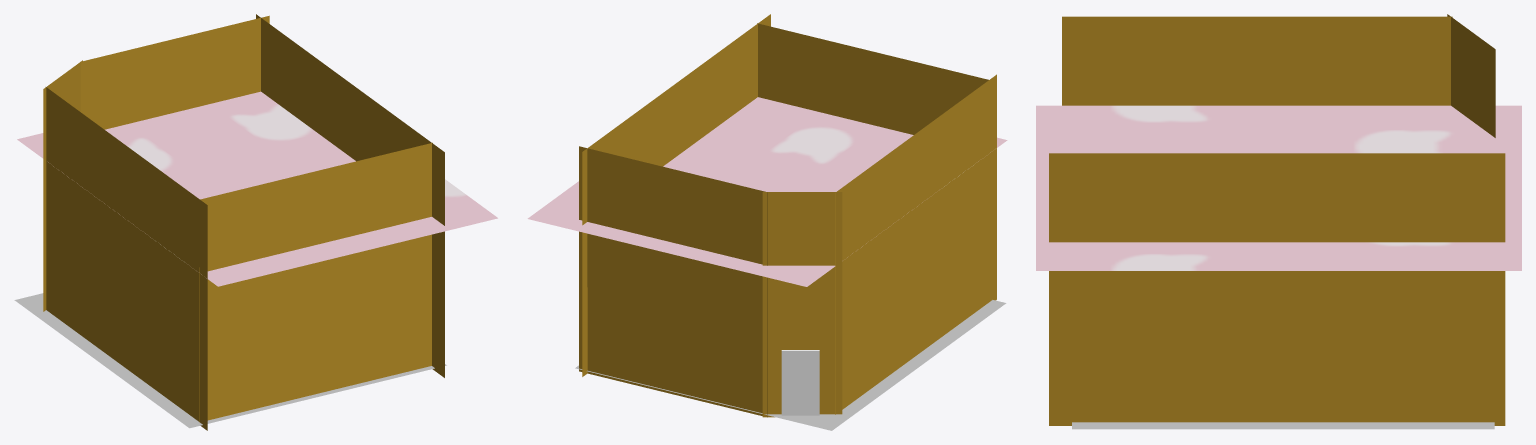
Rendered from Interior_Cafe.fbx.
3 views of the same model, side by side, from view 1: azimuth 30°, elevation 25°; view 2: azimuth 150°, elevation 25°; view 3: azimuth 270°, elevation 25° (orthographic). The views are drawn at different scales.
Parts seen in each view (by area): view 1: Wall_3, Wall_1, Ceiling, Wall_2, Wall, Floor, Wall__1_; view 2: Wall_2, Wall_1, Ceiling, Wall__1_, Wall_3, Wall, Floor, Door; view 3: Wall, Ceiling, Wall_1, Wall__1_, Floor.
Part boxes in pixels (x1=…): Wall_3: x1=199, y1=142, x2=432, y2=422; Wall_1: x1=46, y1=87, x2=207, y2=430; Ceiling: x1=17, y1=91, x2=497, y2=286; Wall_2: x1=80, y1=15, x2=269, y2=129; Wall: x1=256, y1=14, x2=444, y2=377; Floor: x1=14, y1=293, x2=446, y2=428; Wall__1_: x1=43, y1=60, x2=82, y2=311; Wall_2: x1=579, y1=146, x2=767, y2=417; Wall_1: x1=835, y1=74, x2=996, y2=414; Ceiling: x1=527, y1=97, x2=1007, y2=286; Wall__1_: x1=762, y1=192, x2=842, y2=417; Wall_3: x1=757, y1=23, x2=988, y2=134; Wall: x1=582, y1=14, x2=770, y2=376; Floor: x1=575, y1=300, x2=1006, y2=430; Door: x1=781, y1=350, x2=819, y2=415; Wall: x1=1049, y1=153, x2=1505, y2=425; Ceiling: x1=1036, y1=105, x2=1521, y2=270; Wall_1: x1=1062, y1=16, x2=1452, y2=105; Wall__1_: x1=1447, y1=14, x2=1495, y2=137; Floor: x1=1072, y1=422, x2=1494, y2=429.
Bounding box in the file's own units: 1049 × 770 × 1243.
